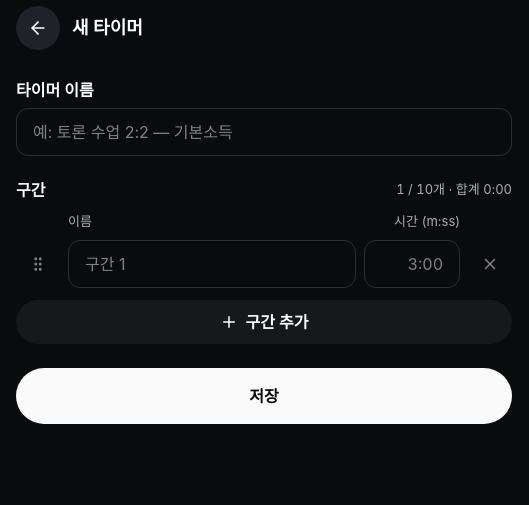
TimerEditor › reports a failed save and permits retrying
In the field labelled "타이머 이름": [264, 132] box [16,108,512,156], type "새 발표"
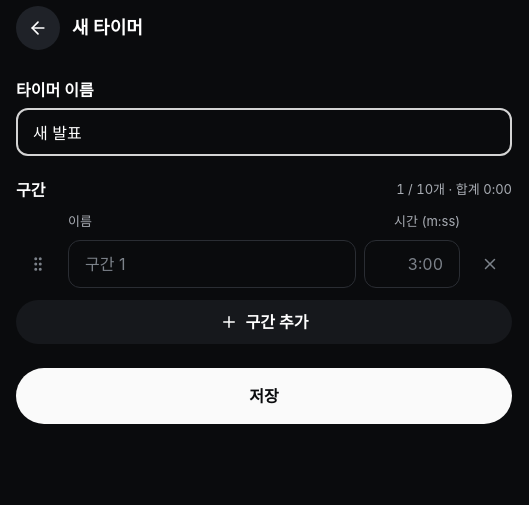
In the field named "구간 1 이름": [212, 264] box [68,240,356,288], type "도입"
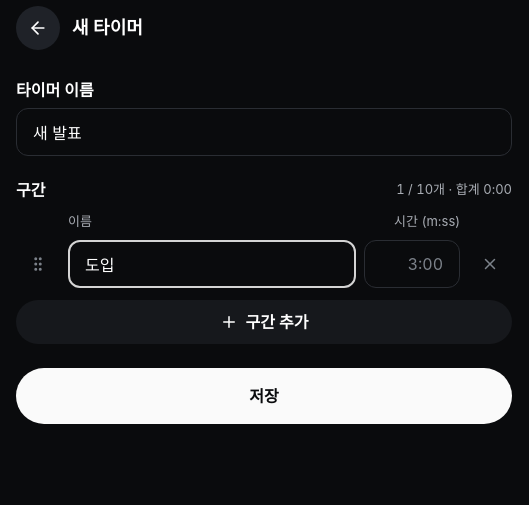
In the field named "구간 1 시간": [412, 264] box [364,240,460,288], type "1:00"
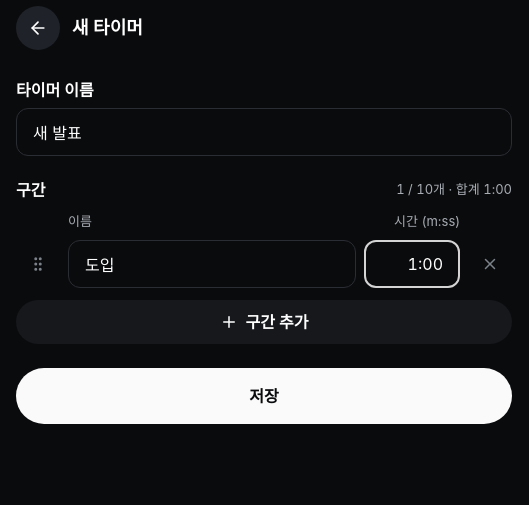
Click the button "저장": [264, 396] box [16,368,512,424]
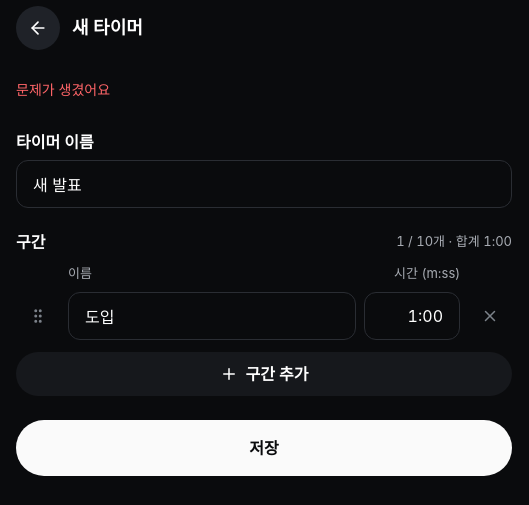
expect the message reads "문제가 생겼어요": met, box [16,81,110,98]
Click the button "저장": [264, 448] box [16,420,512,476]
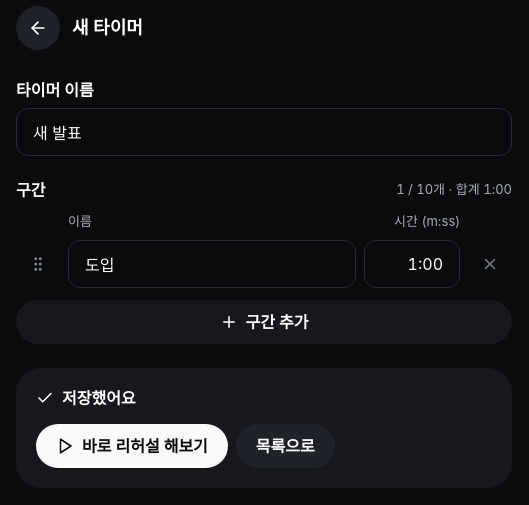
expect the text "저장했어요" is shown: met, box [36,388,136,408]
